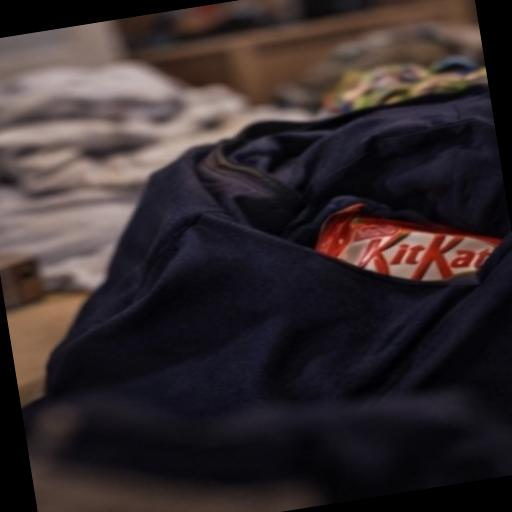kitkat: (242, 129, 512, 364)
